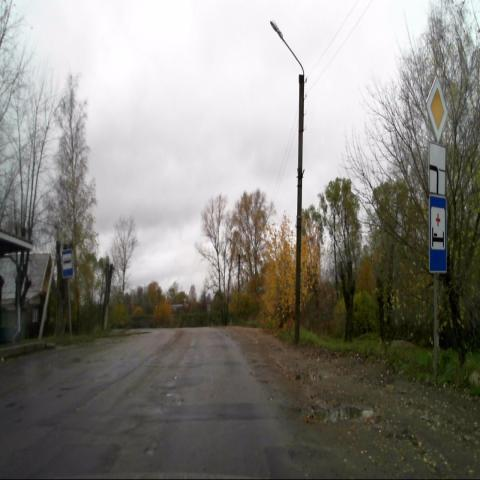7_2: (428, 196, 447, 274)
